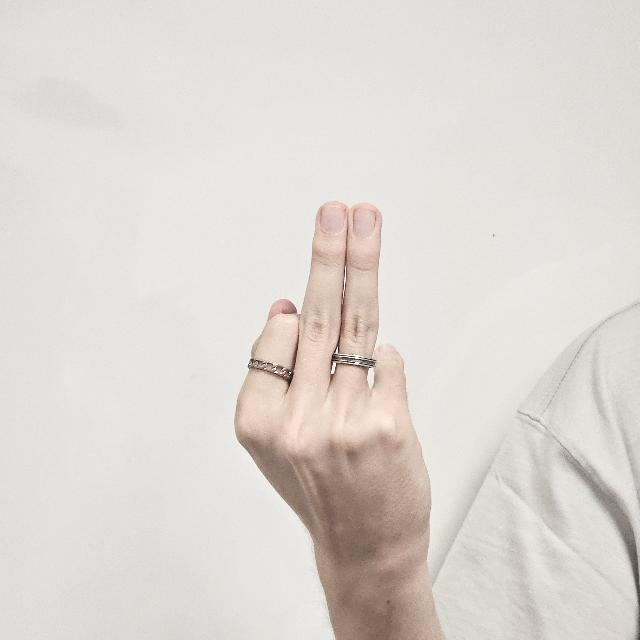R: (235, 198, 438, 580)
